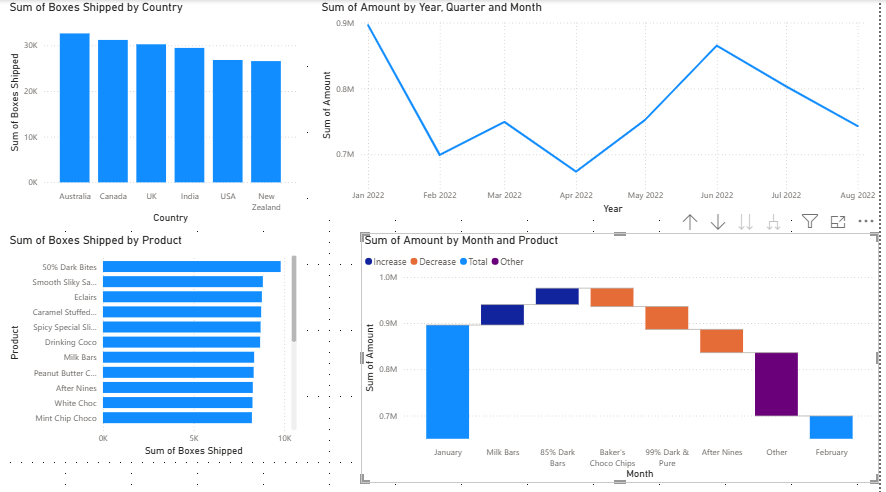

Layout of this report page (visuals, bound fields, positions):
{"tool":"powerbi","page":{"name":"Page 1","canvas":[1280,720],"ordinal":0},"visuals":[{"type":"clusteredColumnChart","fields":{"Category":["data.Country"],"Y":["Sum(data.Boxes Shipped)"]},"box":[10.1,0,428.3,329.2],"z":0},{"type":"lineChart","fields":{"Category":["data.Date.Variation.Date Hierarchy.Year","data.Date.Variation.Date Hierarchy.Quarter","data.Date.Variation.Date Hierarchy.Month"],"Y":["Sum(data.Amount)"]},"box":[464,0,816,315.6],"z":1},{"type":"clusteredBarChart","fields":{"Category":["data.Product"],"Y":["Sum(data.Boxes Shipped)"]},"box":[10,339,428,329],"z":2},{"type":"waterfallChart","fields":{"Breakdown":["data.Product"],"Y":["Sum(data.Amount)"],"Category":["data.Date.Variation.Date Hierarchy.Year","data.Date.Variation.Date Hierarchy.Quarter","data.Date.Variation.Date Hierarchy.Month"]},"box":[526.5,338.9,753.5,363.6],"z":3}]}

Visuals, with their boxes on the page's 1280x720 design canvas (x1, y1, x2, y2). These are canvas units, not pixel positions in the 886x492 screenshot, which may show the page scaled, cropped or inside an application window:
clusteredColumnChart - data.Country x Sum(data.Boxes Shipped): [x1=10, y1=0, x2=438, y2=329]
lineChart - data.Date.Variation.Date Hierarchy.Year x data.Date.Variation.Date Hierarchy.Quarter: [x1=464, y1=0, x2=1280, y2=316]
clusteredBarChart - data.Product x Sum(data.Boxes Shipped): [x1=10, y1=339, x2=438, y2=668]
waterfallChart - data.Product x Sum(data.Amount): [x1=526, y1=339, x2=1280, y2=702]
